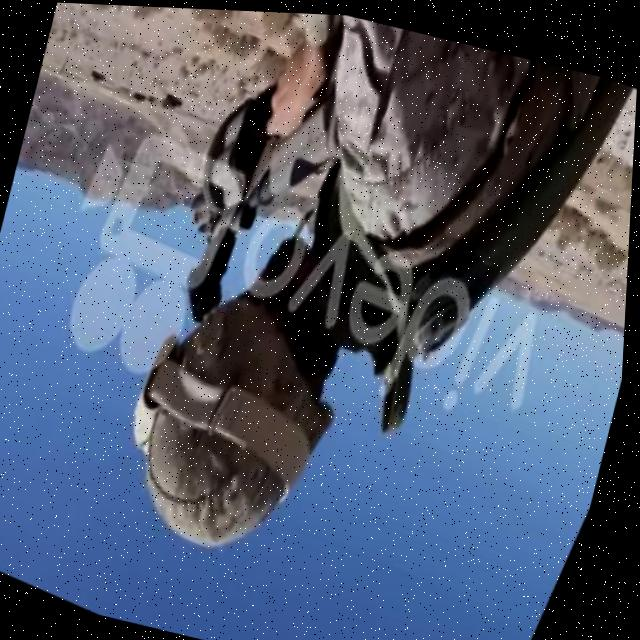rocket: (138, 49, 357, 347)
